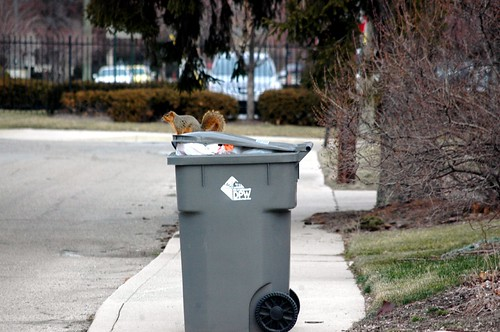animal: (157, 105, 220, 136)
grass: (347, 218, 500, 311)
street: (1, 122, 184, 332)
trash can: (175, 131, 303, 332)
tree: (323, 1, 500, 214)
